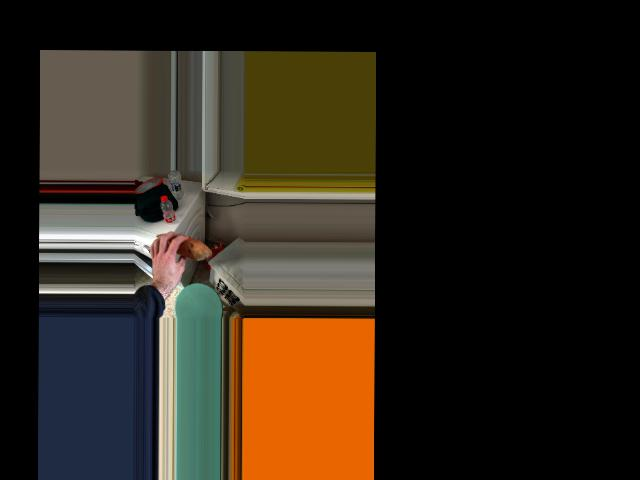sweet_potato: (153, 232, 210, 259)
